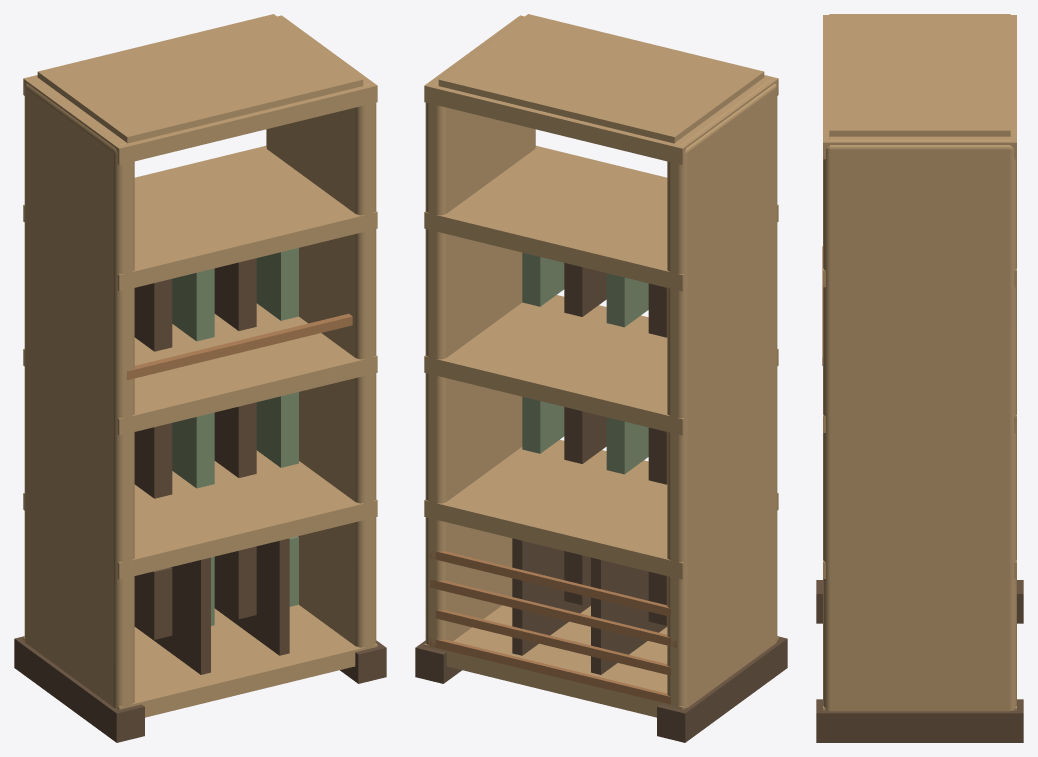
The model's file is bookcaseopen.glb.
3 views of the same model, side by side, from view 1: azimuth 30°, elevation 25°; view 2: azimuth 150°, elevation 25°; view 3: azimuth 270°, elevation 25° (orthographic).
Visible parts, largest first — view 1: atelier-warm-bookcaseopen; view 2: atelier-warm-bookcaseopen; view 3: atelier-warm-bookcaseopen.
Part boxes in pixels (x1,y1,x2,y2): atelier-warm-bookcaseopen: [14, 14, 386, 742]; atelier-warm-bookcaseopen: [415, 14, 787, 742]; atelier-warm-bookcaseopen: [816, 14, 1023, 742].
Size of the model in its own units: 0.4729 by 1 by 0.311.
